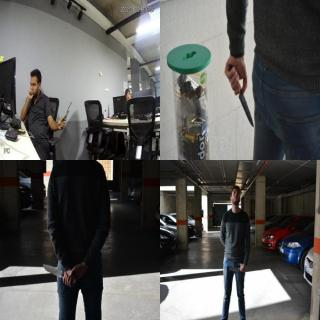knife: (228, 62, 254, 128), (42, 262, 74, 284), (63, 101, 73, 123), (227, 266, 241, 272)
